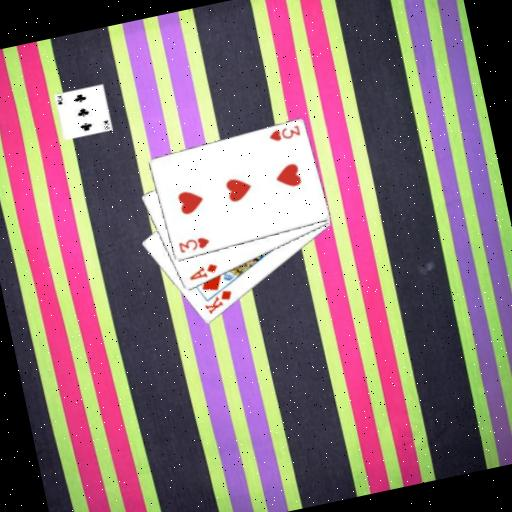3H: (264, 122, 302, 145), (174, 233, 211, 255)
AD: (184, 259, 221, 282)
KD: (199, 285, 237, 317)
